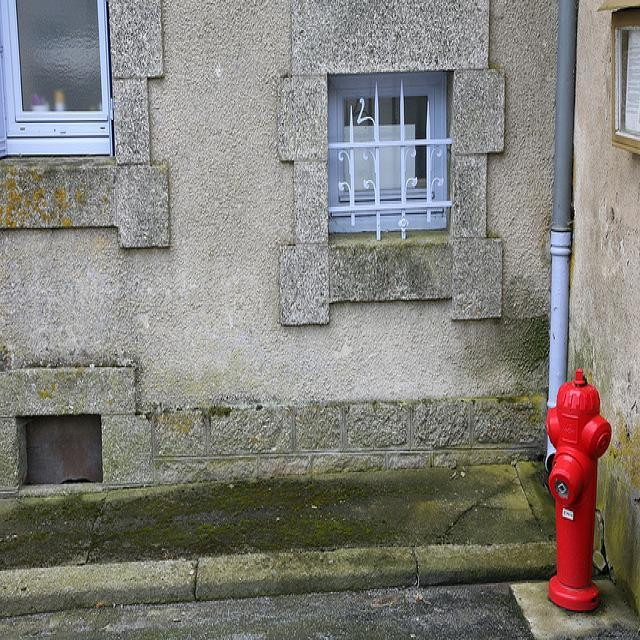fire_hydrant: (545, 364, 613, 610)
